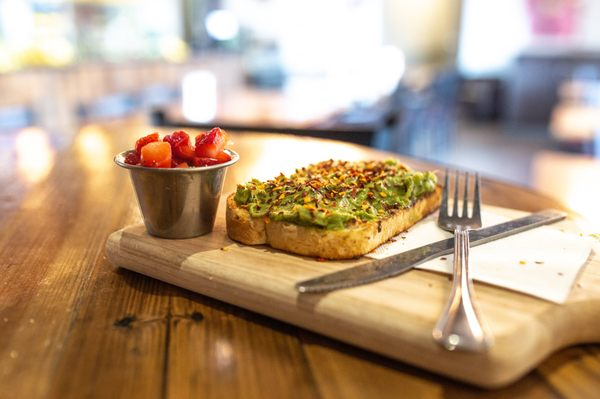sandwich: (297, 234, 454, 299)
sushi: (113, 135, 239, 241)
